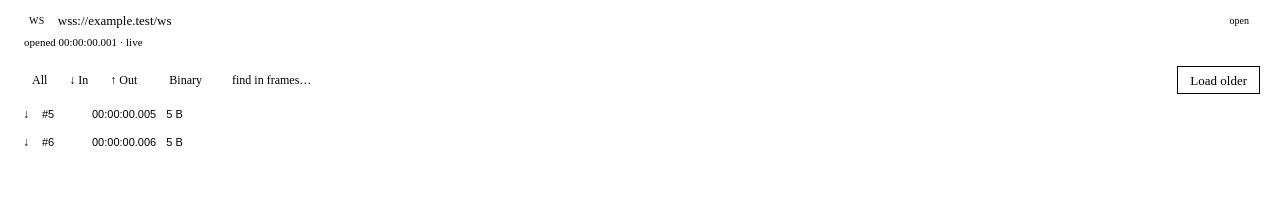
Test: FrameTimeline › shows Jump to live only after older frames are paged in (D1)
Expected: the button "Jump to live" is not shown
Click the button "Load older". click: x=1219, y=80
box: [1177,66,1260,94]
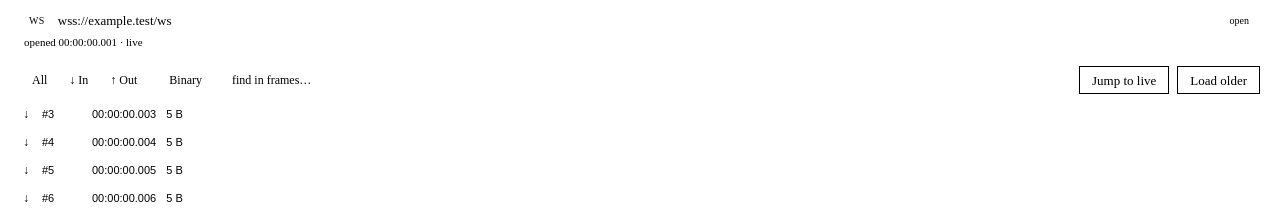
Expected: the button with test id "ws-frame-3" is shown, [8,100,1272,128]
Expected: the button "Jump to live" is shown, [1079,66,1169,94]
